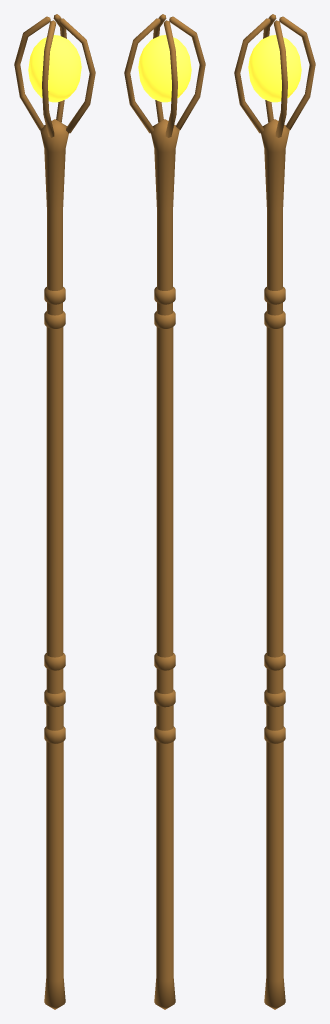
Rendered from sunstaff.glb.
The picture shows the model from 3 angles, left to right: view 1: azimuth 30°, elevation 25°; view 2: azimuth 150°, elevation 25°; view 3: azimuth 330°, elevation 25°; orthographic projection.
Visible parts, largest first — view 1: staff_bronze, staff_glass; view 2: staff_bronze, staff_glass; view 3: staff_bronze, staff_glass.
Boxes of the visible parts, left/top/right/bottom form: staff_bronze: left=14, top=14, right=95, bottom=1009; staff_glass: left=28, top=35, right=81, bottom=102; staff_bronze: left=124, top=14, right=205, bottom=1009; staff_glass: left=138, top=35, right=191, bottom=102; staff_bronze: left=234, top=14, right=315, bottom=1009; staff_glass: left=248, top=35, right=301, bottom=102.
Size of the model in its own units: 0.092 by 1.63 by 0.0907.
